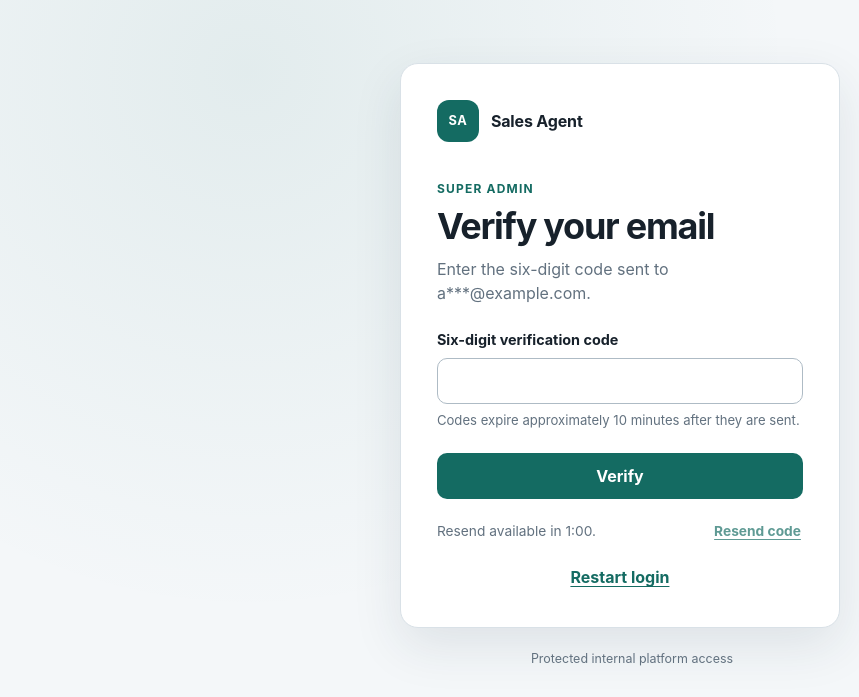
Scenario: Super Admin OTP verification › does not submit an incomplete or malformed code
Type "12a34" into the field labelled "Six-digit verification code" at x=620, y=381, box [437,358,803,404]
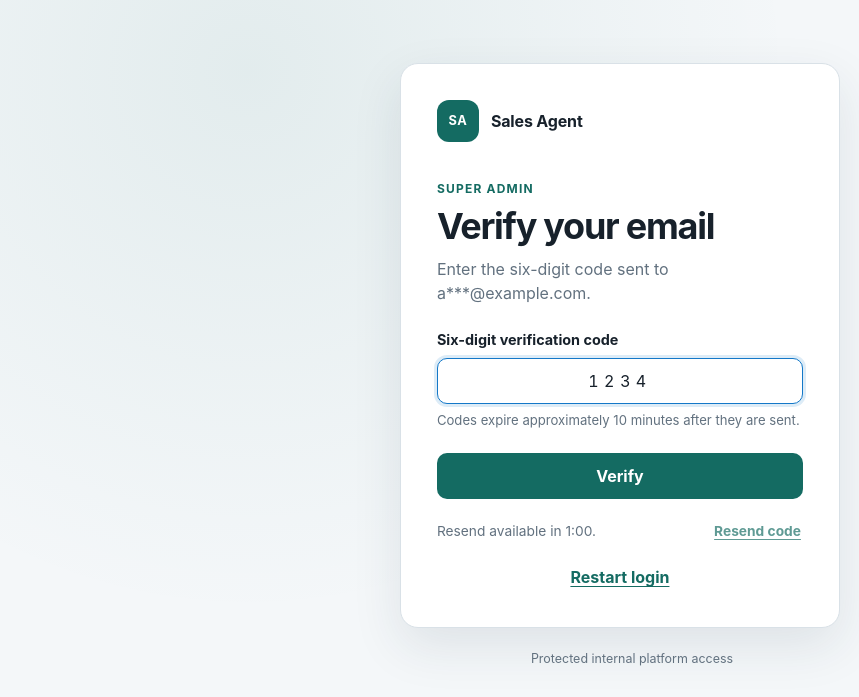
Expected: the field labelled "Six-digit verification code" holds "1234", [437,358,803,404]
Click the button "Verify" at x=620, y=476, box [437,453,803,499]
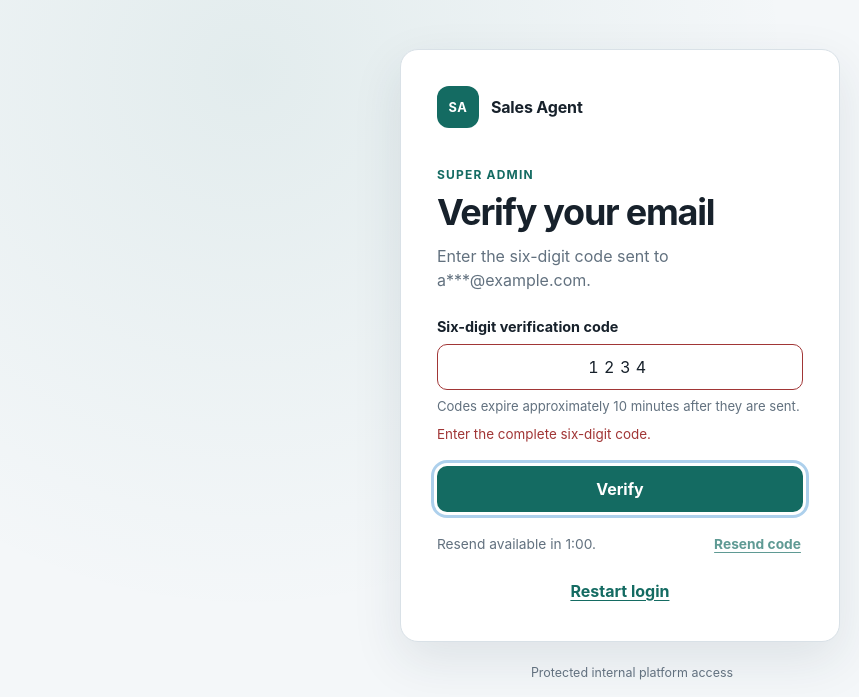
Expected: the text "Enter the complete six-digit code." is shown, [437,426,651,442]
